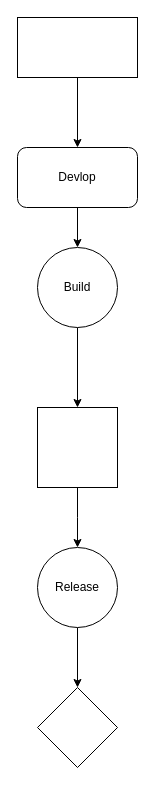
The diagram is 155 pixels wide and 785 high, and some of its shapes have lost their labels. Each missing label, with the centre of its shape:
"plan" belongs at (77,47).
"Text" belongs at (77,447).
